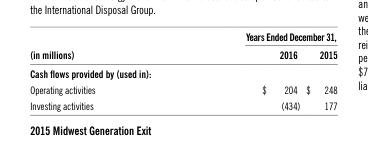table: (29, 29, 336, 111)
table column: (29, 29, 169, 111), (169, 29, 302, 111), (302, 29, 336, 111)
table column header: (29, 29, 336, 63)
table projected row header: (29, 63, 336, 81)
table row: (29, 45, 336, 63), (29, 63, 336, 81), (29, 29, 336, 45), (29, 81, 336, 97), (29, 97, 336, 111)
table spanning cell: (29, 29, 169, 63), (169, 29, 336, 45)
